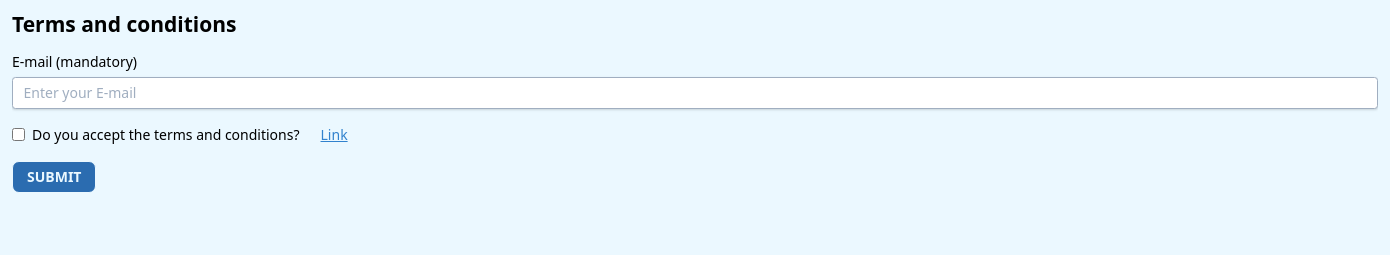
it: TermsForm › displays form validation errors
Submit the form from the button "Submit", box x1=12 y1=161 x2=96 y2=193
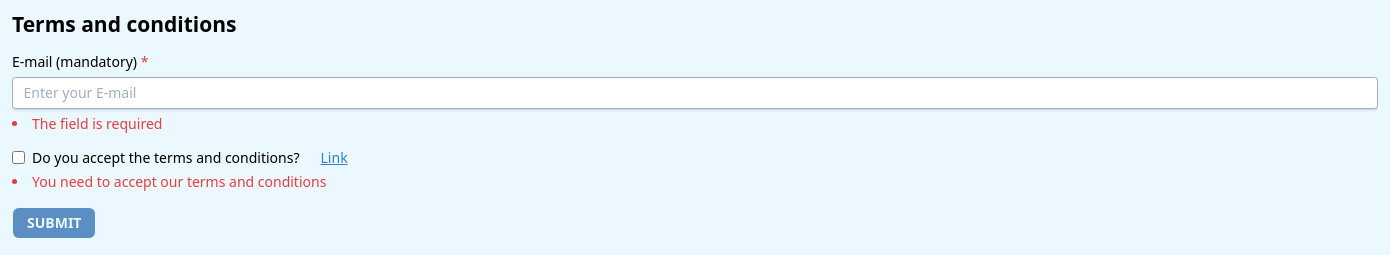
Expected: the list item "The field is required" is shown, x1=32 y1=114 x2=162 y2=133
Type "dave.grohl" into the field labelled "E-mail (mandatory)".
click(695, 93); type("dave.grohl")  # box x1=12 y1=77 x2=1378 y2=109
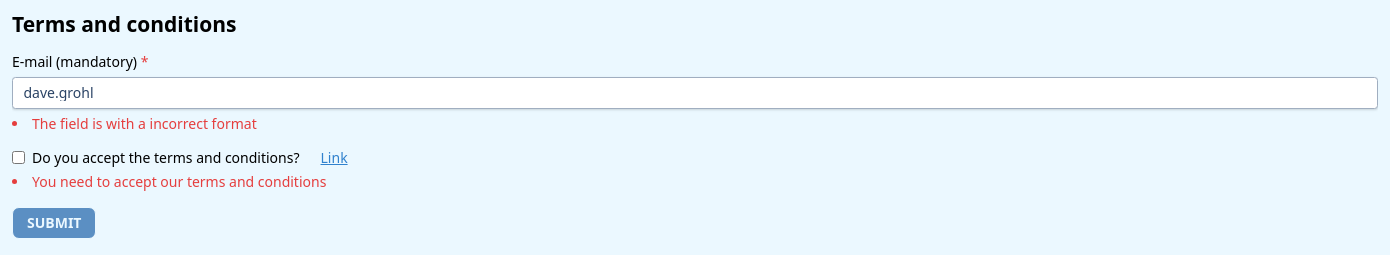
Expected: the text "Do you accept the terms and conditions?" is shown, x1=32 y1=150 x2=300 y2=166
Expected: the list item "The field is with a incorrect format" is shown, x1=32 y1=114 x2=257 y2=133
